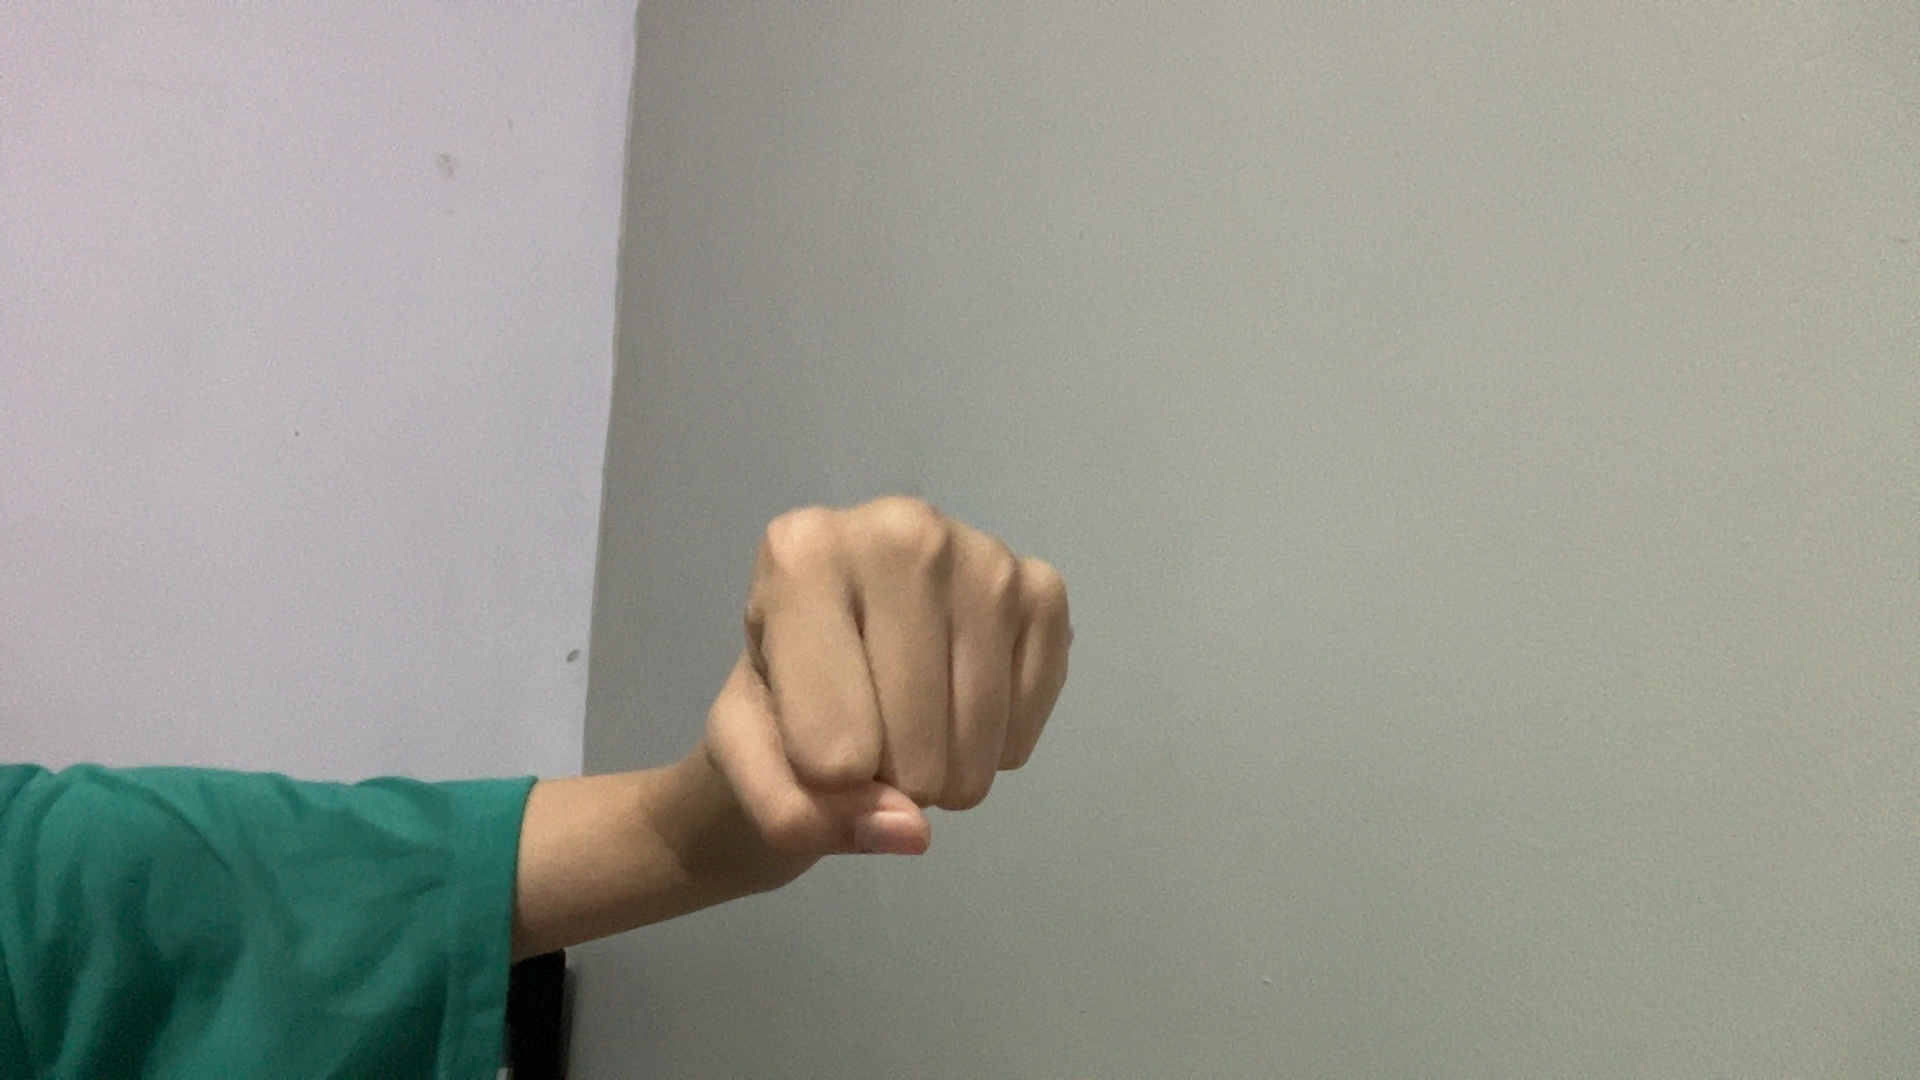Yes: (647, 382, 1185, 975)
